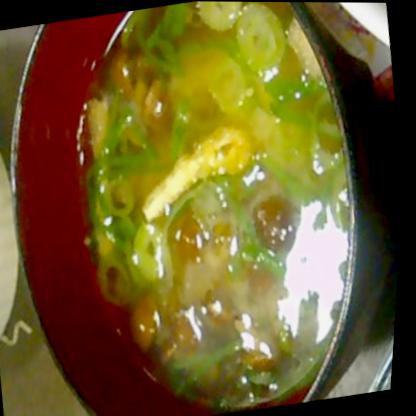miso soup: (30, 0, 397, 415)
